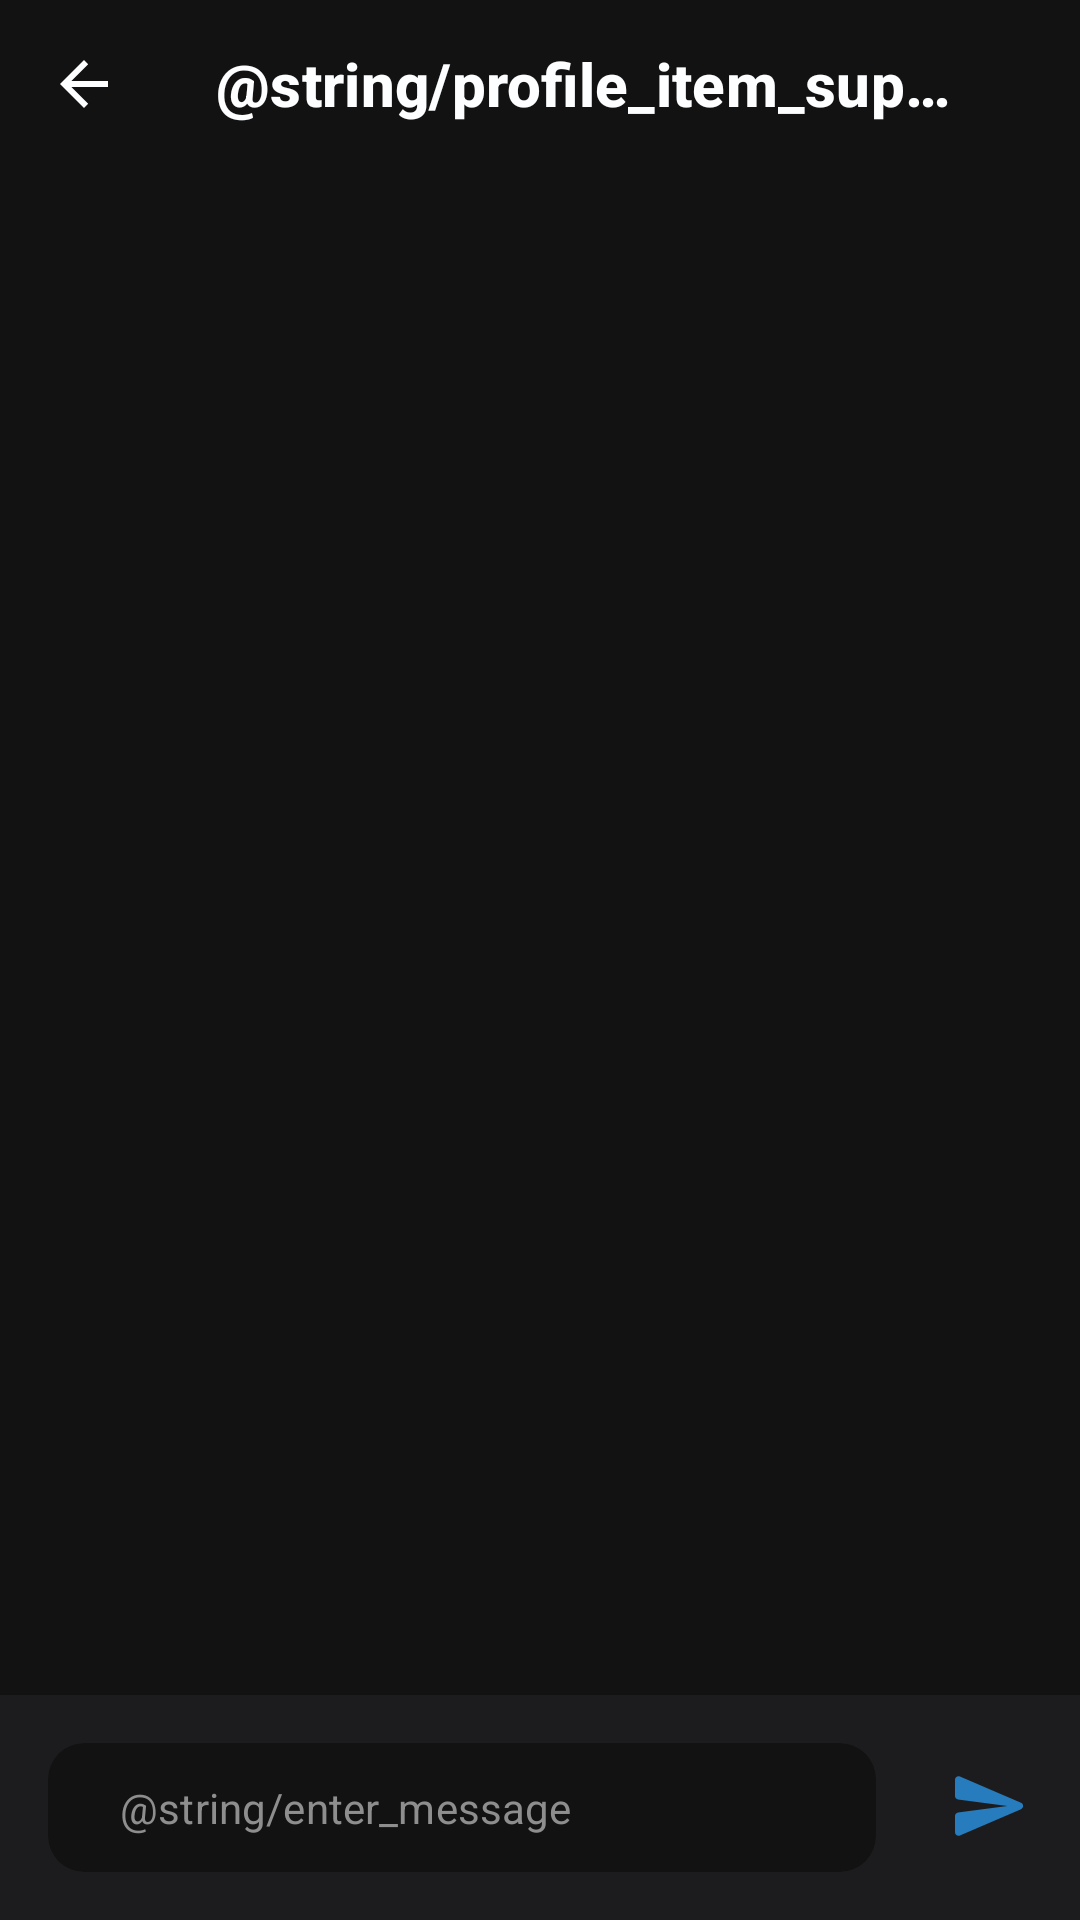

Icons on this 1080x1920 Android screen, each with the point to tap as point (x, y):
send: point (989, 1806)
